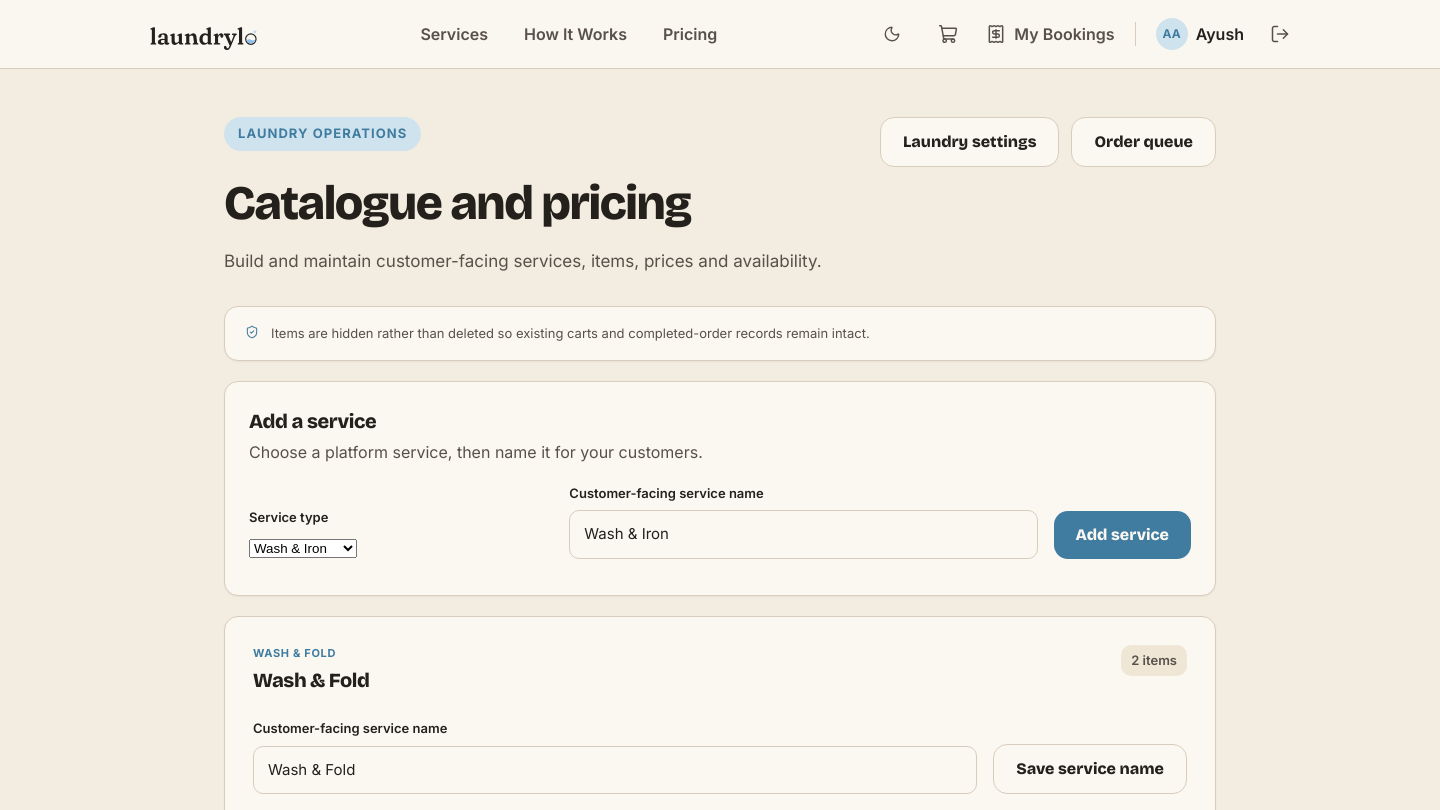
laundry-partner catalogue management › updates a customer-facing service name independently
Step 1. Clear the 2nd field labelled "Customer-facing service name" → (615, 770), box [253, 746, 977, 794]
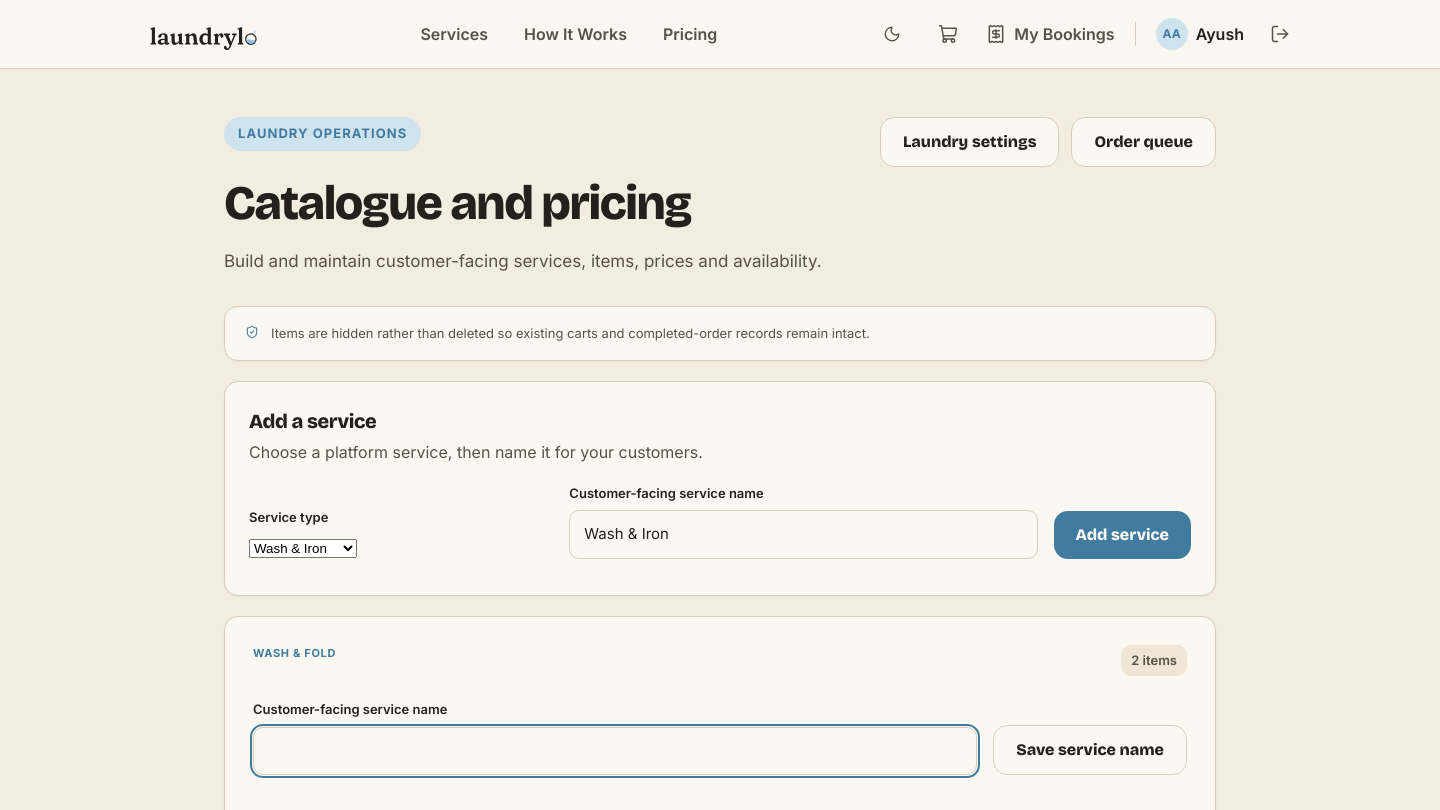
Step 2. Type "Everyday Laundry" into the field labelled "Customer-facing service name" below "Wash & Fold" → (615, 751), box [253, 727, 977, 775]
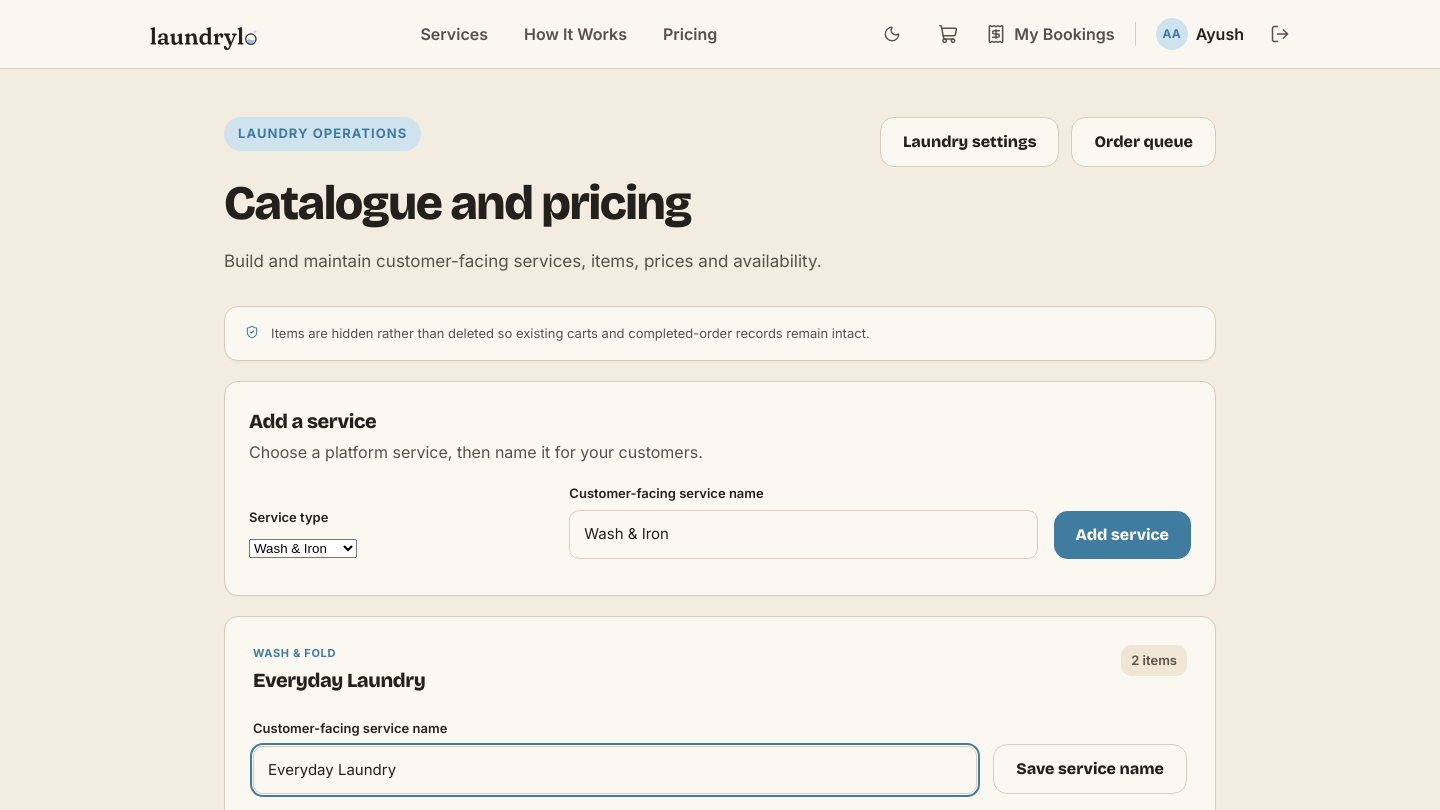
Step 3. Click the button "Save service name" → (1090, 769), box [993, 744, 1187, 794]
(page scrolled)
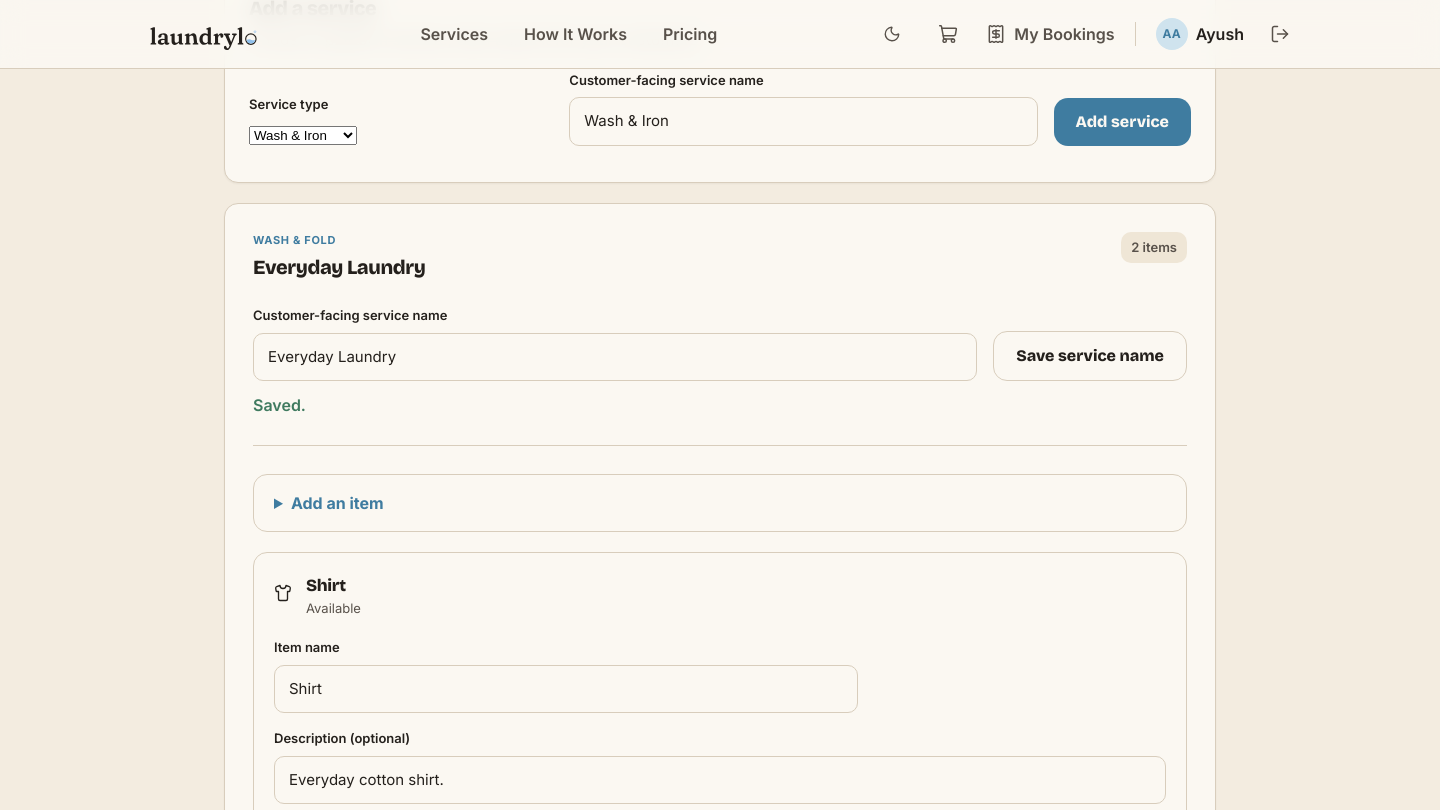
Result: the text "Saved." is shown at [253, 395, 306, 415]
